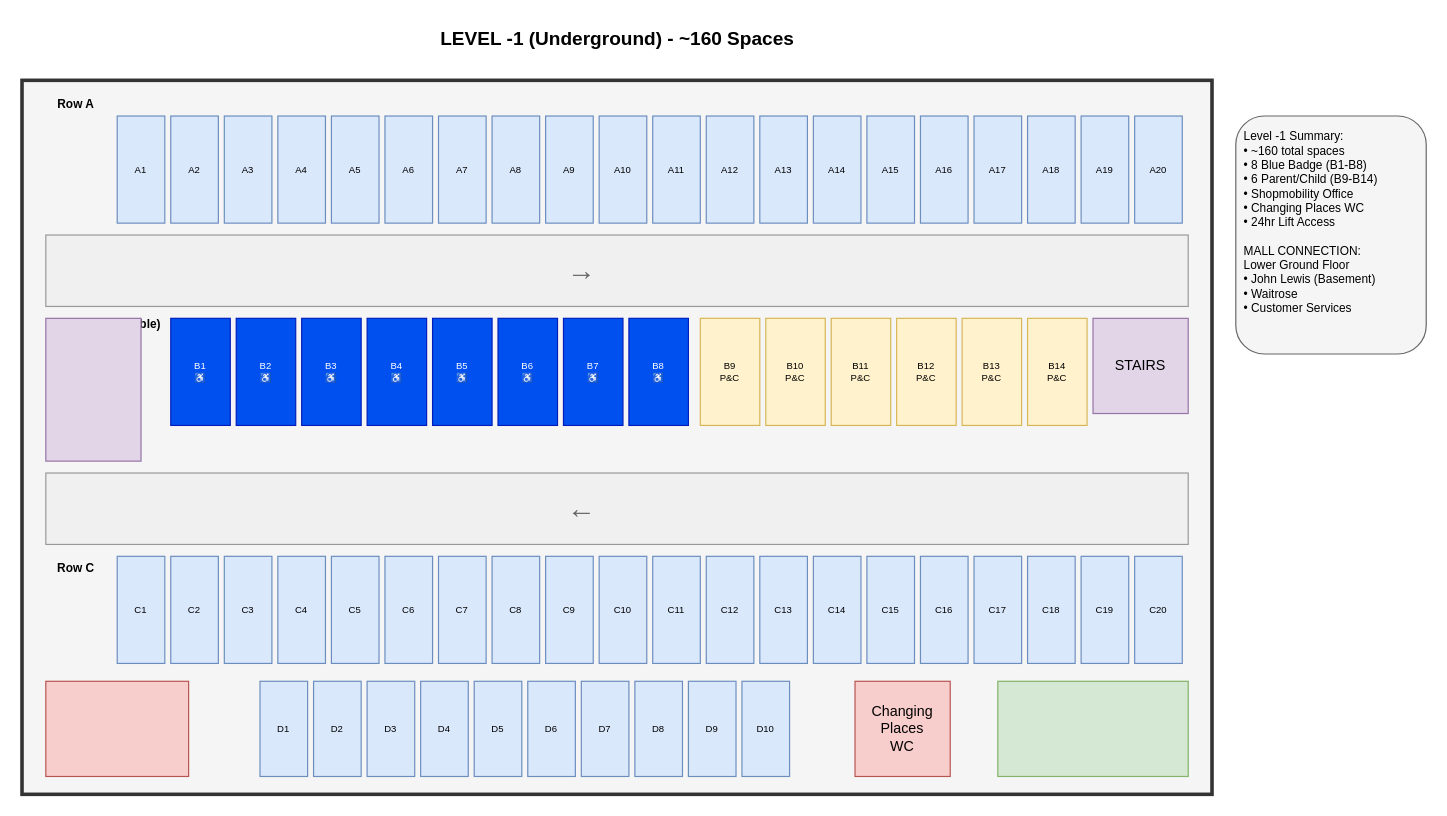
Some shapes in this 1447 by 816 pixel diagram are drawn without their labels. Here are the shapes that lost their labels. From the top down, the box of each, then its label:
(45, 317, 141, 461): LIFT 24hr
(45, 680, 189, 776): SHOPMOBILITY Office
(997, 680, 1188, 776): RAMP ↑ to Level 0
